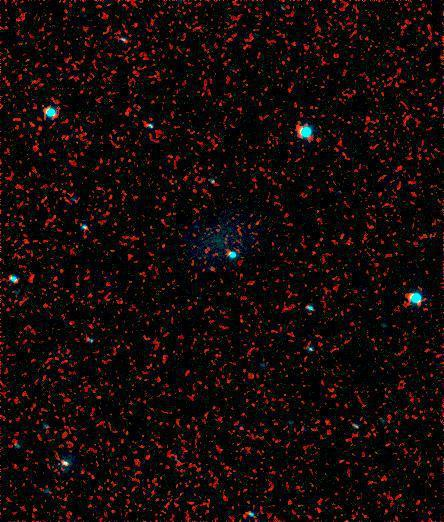star: (240, 208, 270, 238)
